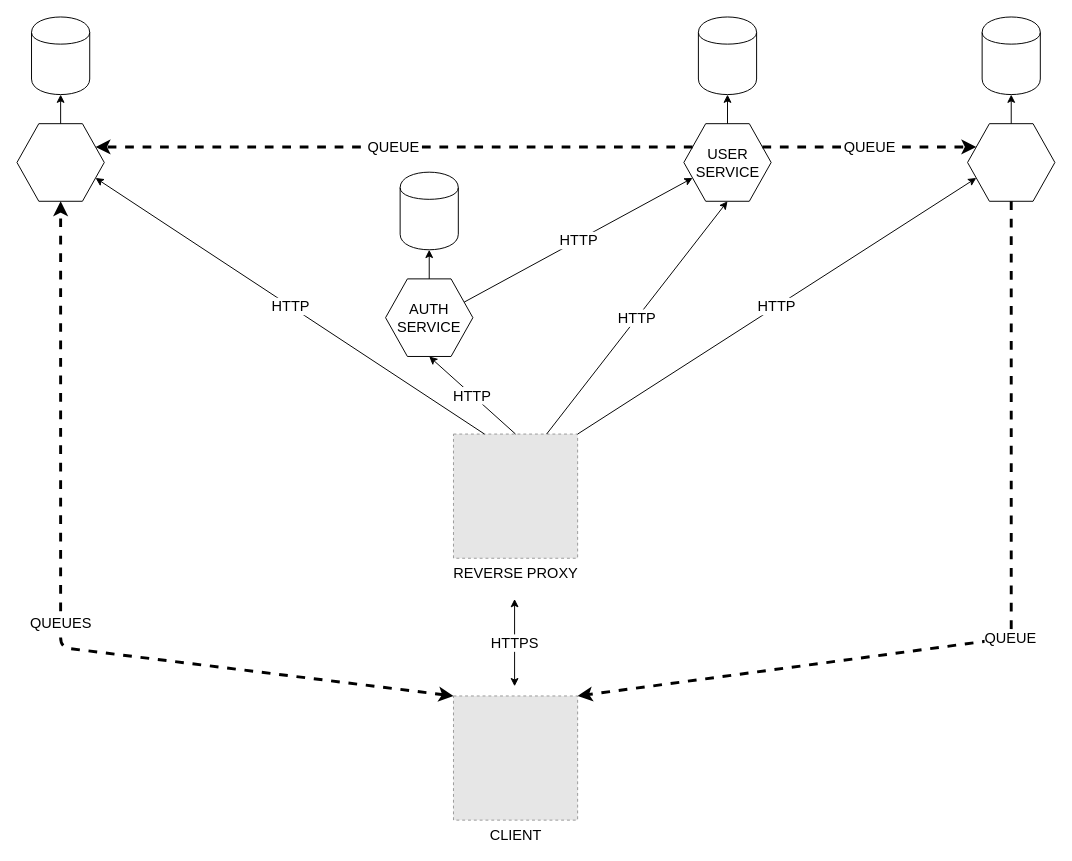
The diagram is 1072 pixels wide and 861 high, and some of its shapes have lost their labels. Grey dashed boxes stand in for pictures. Here are the shapes that lost their labels. From the top down, the centre of each, then its label:
At [60,162]: "CHAT SERVICE".
At [1011,162]: "POST SERVICE".
